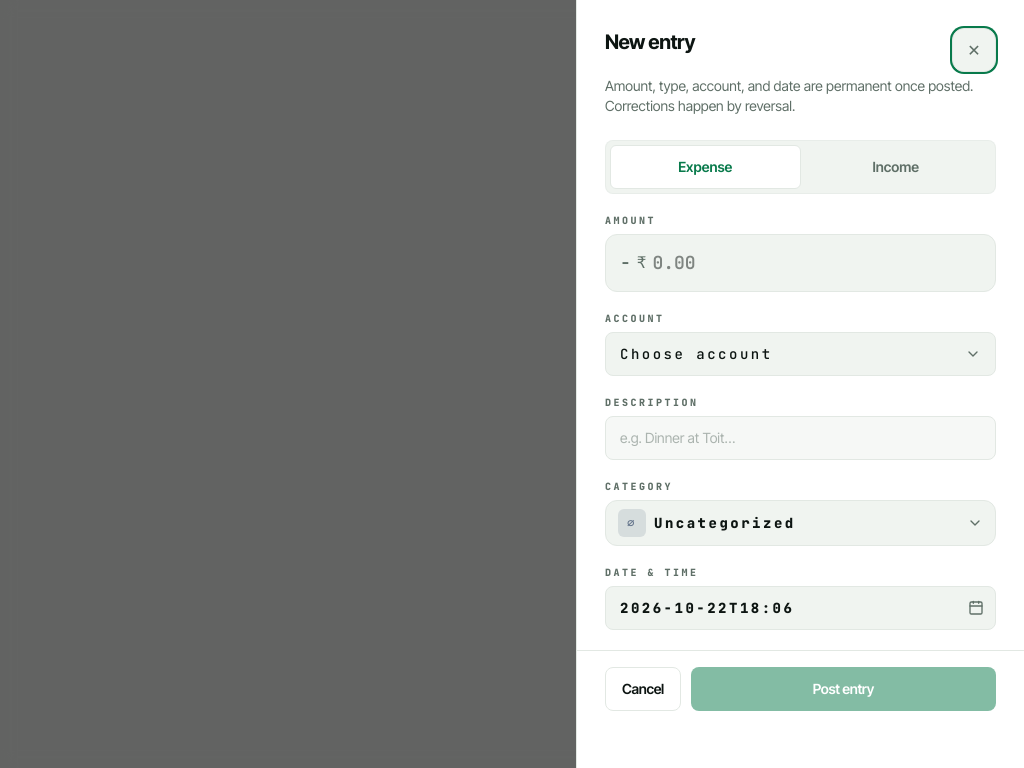
CreateTxnSheet › disables Post entry until amount and description are both present
Expected: the button "Post entry" is disabled, [691,667,996,711]
In the field labelled "Amount": (817, 263) [652,235,981,291], type "150"
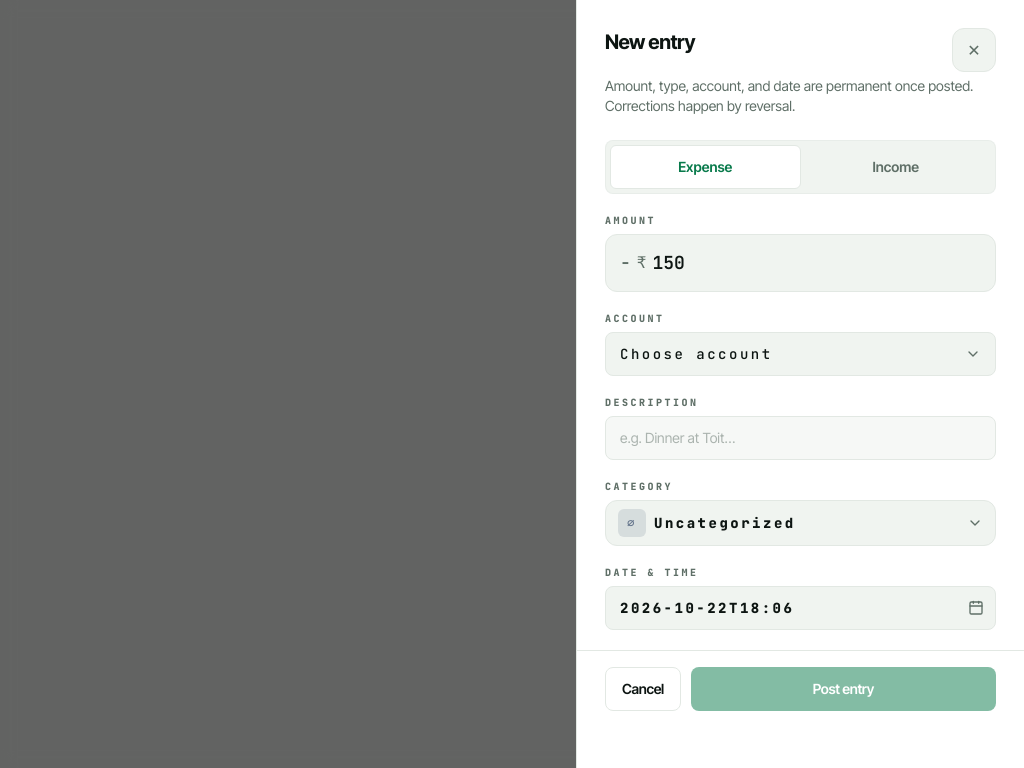
Press Tab
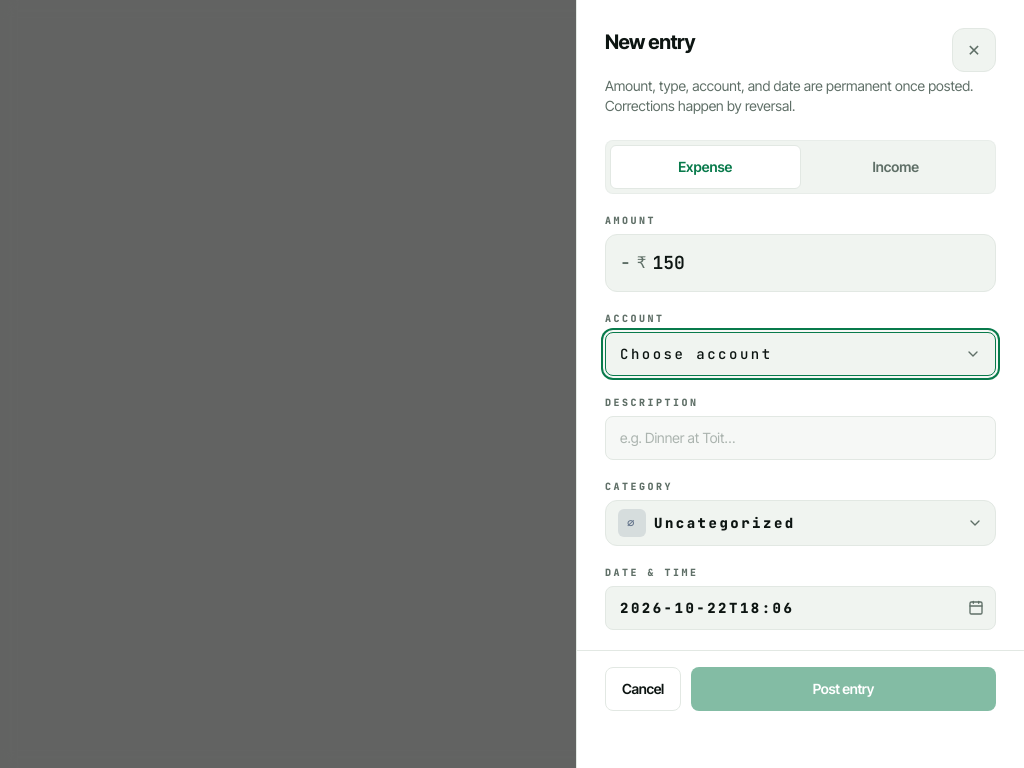
Expected: the button "Post entry" is disabled, [691,667,996,711]
In the field labelled "Description": (800, 438) [605,416,996,460], type "Vegetables"
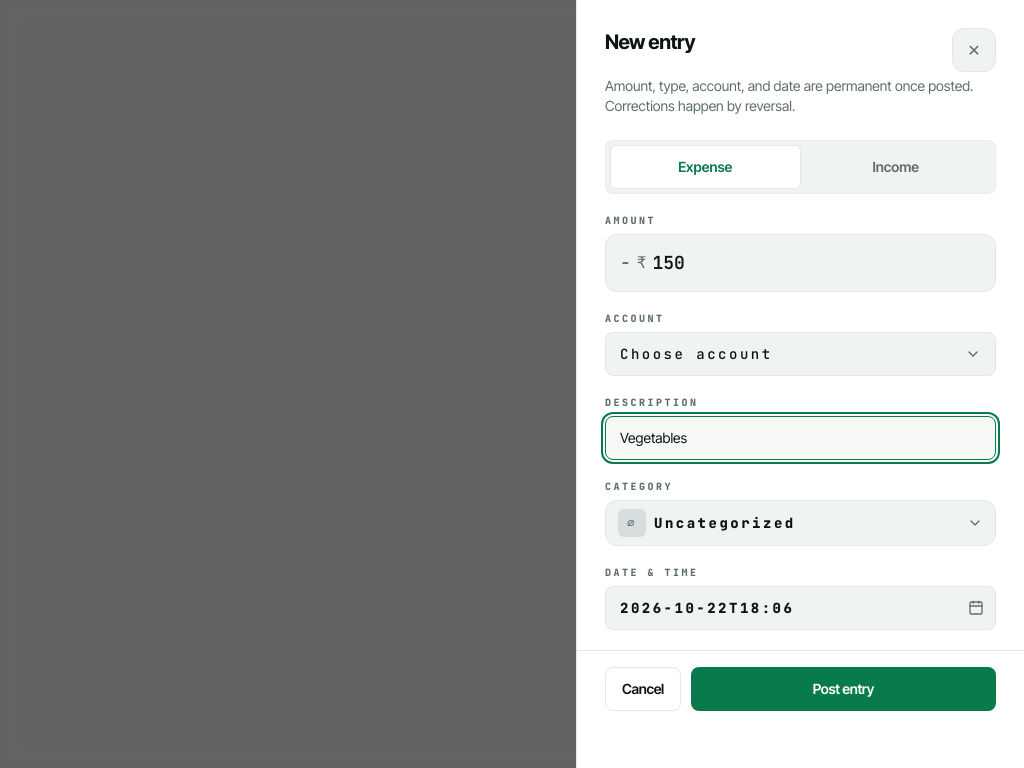
Now the button "Post entry" is enabled, box [691,667,996,711]
